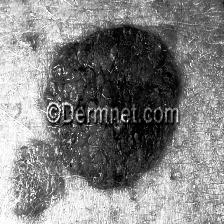Benign Marking or Mole: (49, 36, 183, 181)
